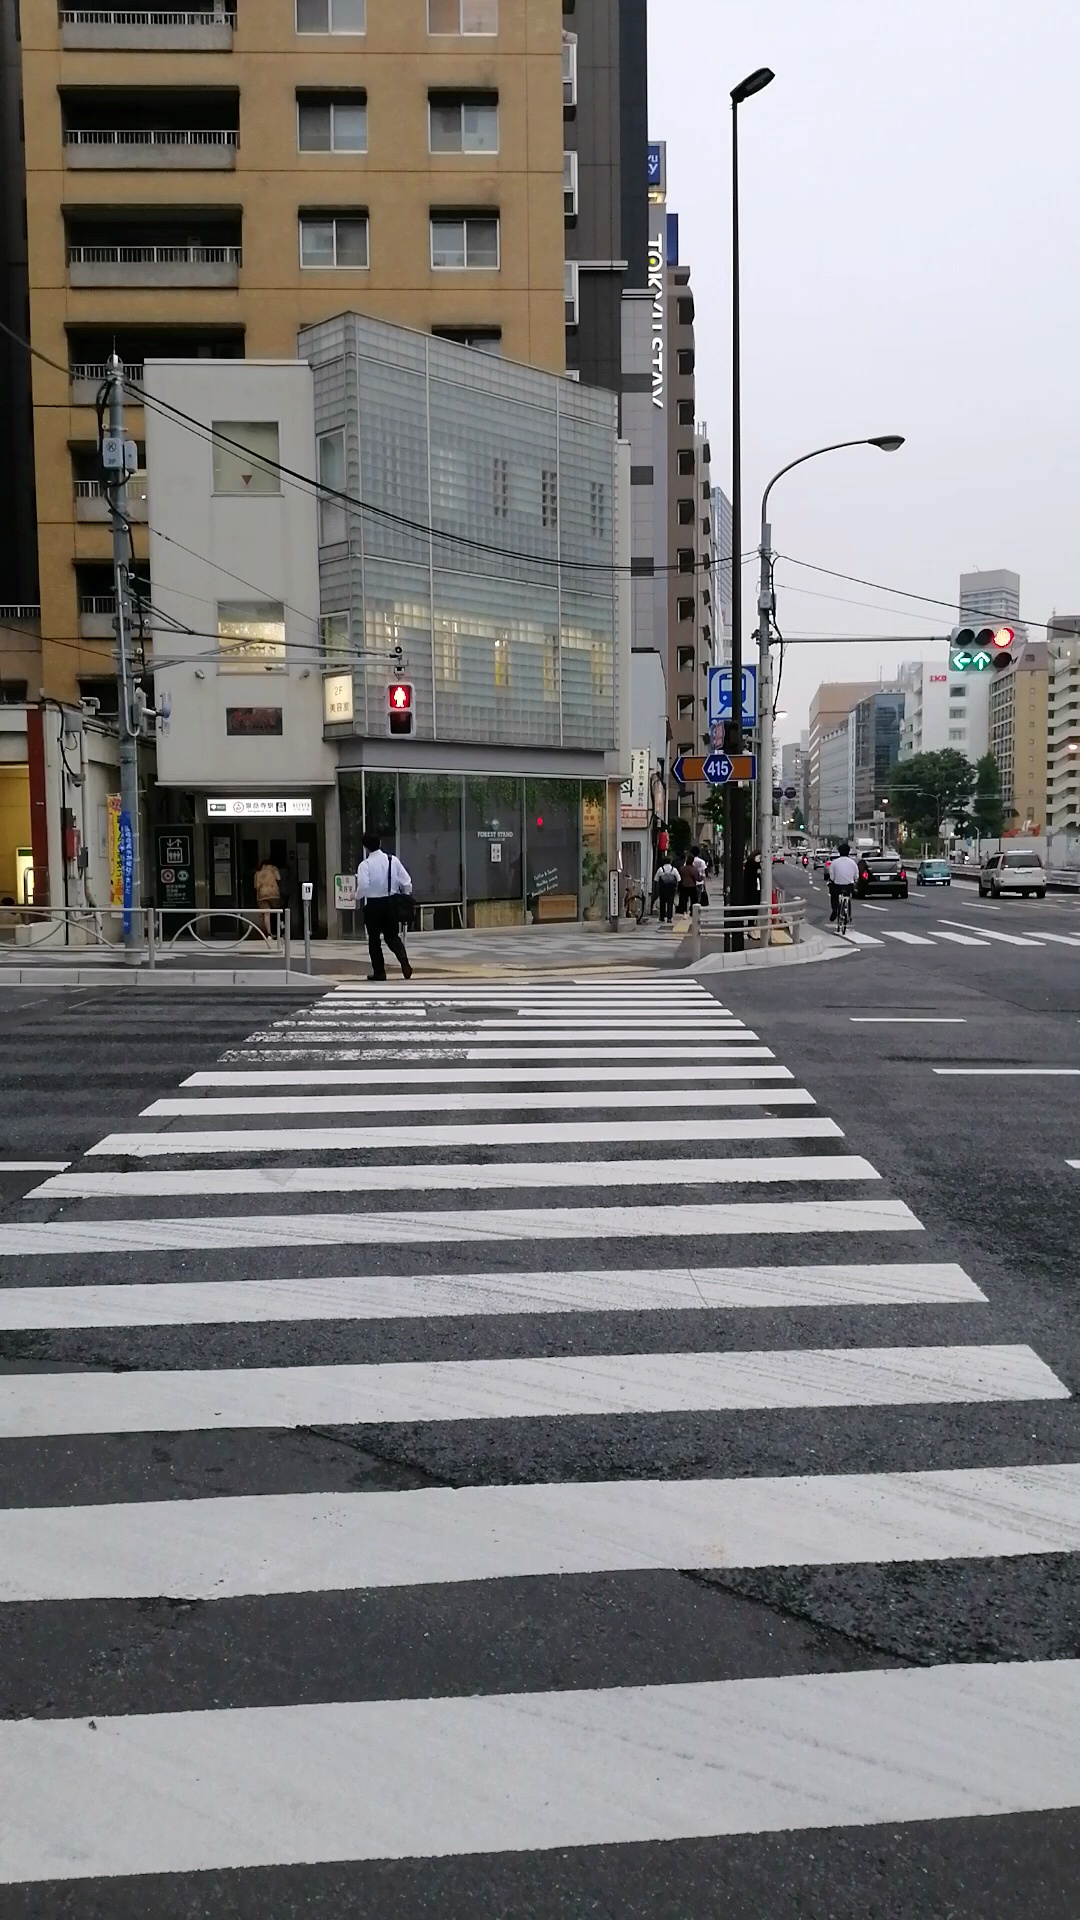red: (384, 680, 415, 737)
